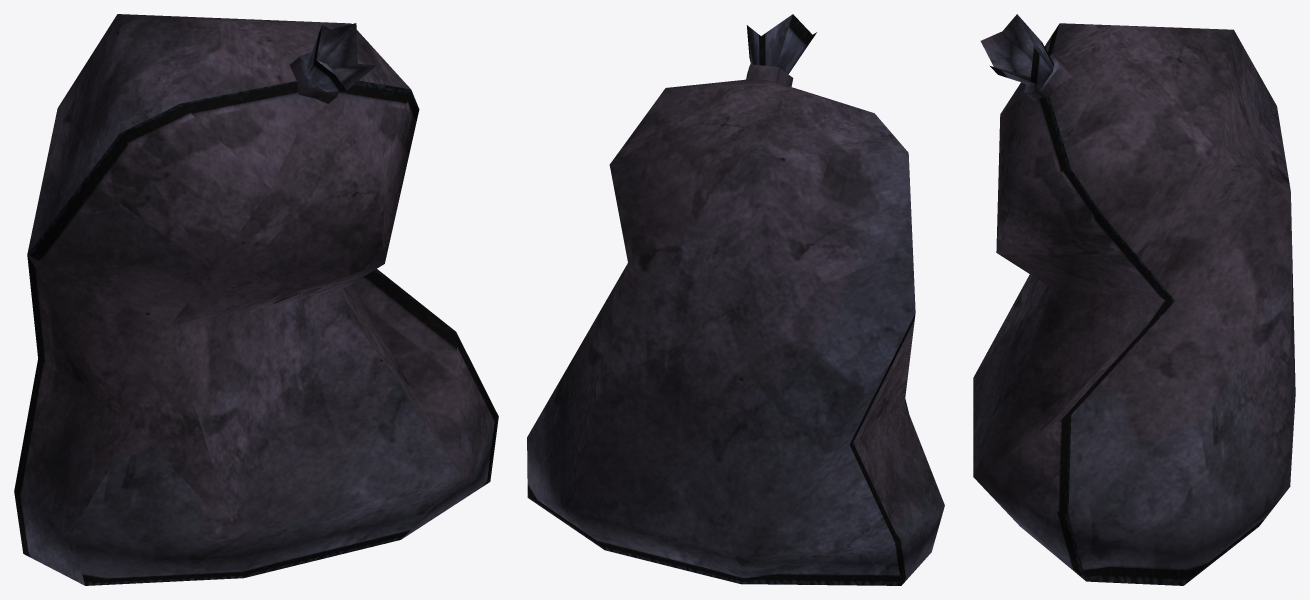
File: Sack02.fbx
3 renders of one model, left to right at view 1: azimuth 30°, elevation 25°; view 2: azimuth 150°, elevation 25°; view 3: azimuth 270°, elevation 25°, orthographic. The views are drawn at different scales.
Parts seen in each view (by area): view 1: Sack02; view 2: Sack02; view 3: Sack02.
Part boxes in pixels (left/top/right/bottom): Sack02: left=14, top=14, right=498, bottom=585; Sack02: left=527, top=14, right=944, bottom=585; Sack02: left=973, top=14, right=1295, bottom=585.
Size of the model in its own units: 0.9395 by 1.13 by 0.6858.
